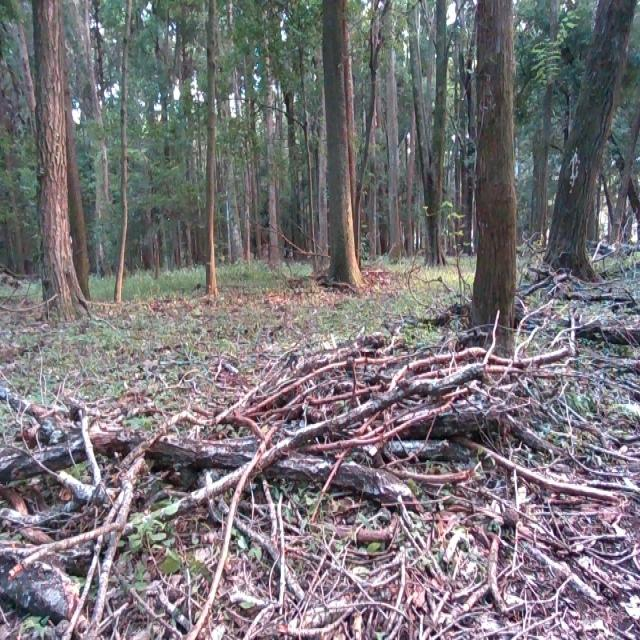tree: (0, 378, 412, 522), (539, 0, 640, 283), (34, 0, 96, 328), (467, 0, 528, 330), (320, 0, 367, 291), (407, 0, 452, 274), (256, 0, 289, 271), (202, 0, 224, 303), (114, 0, 135, 301), (382, 0, 404, 271)
